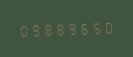eight: (41, 20, 52, 37), (53, 20, 64, 37)
five: (89, 19, 100, 35)
nine: (29, 21, 40, 37), (65, 20, 76, 36)
six: (77, 19, 88, 36)
zero: (17, 21, 28, 38), (101, 18, 112, 35)
